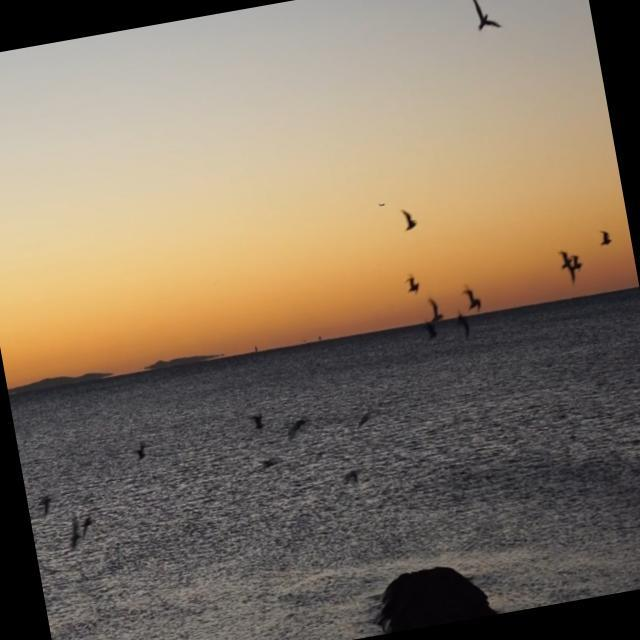bird: (468, 0, 505, 33), (64, 512, 86, 558), (460, 278, 486, 315), (281, 408, 311, 439), (558, 244, 579, 287), (245, 404, 270, 440), (428, 295, 446, 332), (593, 222, 614, 253), (398, 204, 419, 233), (78, 506, 96, 539), (455, 303, 471, 339), (402, 270, 423, 297), (570, 250, 588, 281), (37, 492, 56, 520), (420, 317, 439, 342), (132, 440, 151, 464)
